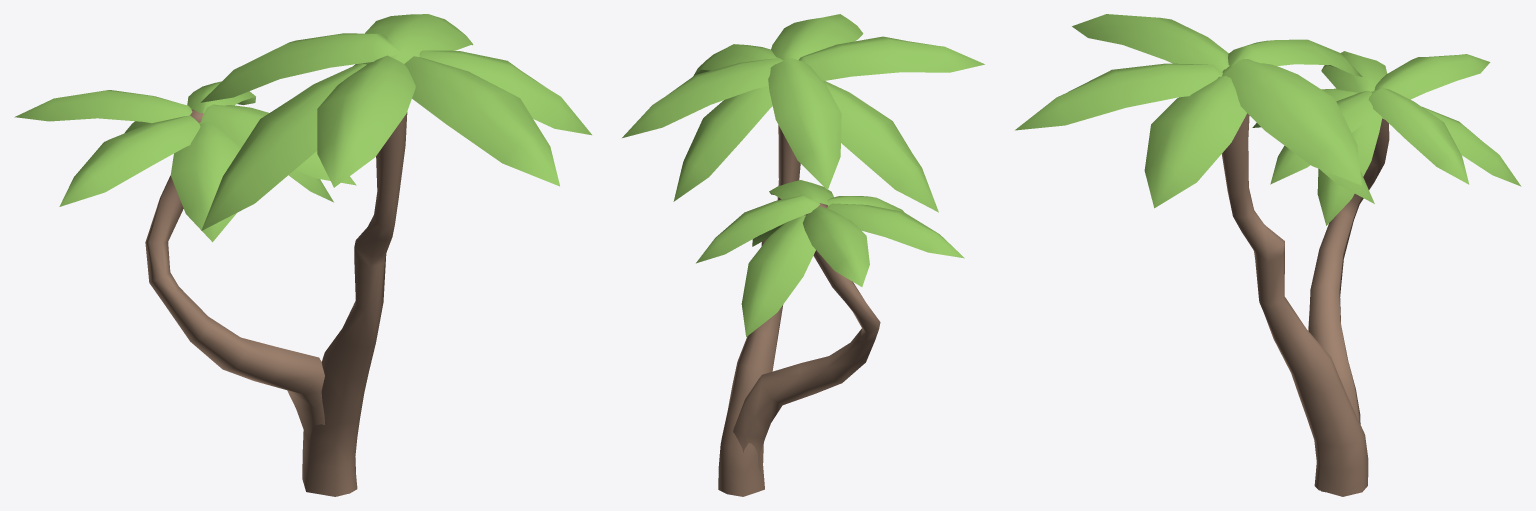
The model's file is TreeAlphas.fbx.
The picture shows the model from 3 angles, left to right: view 1: azimuth 30°, elevation 25°; view 2: azimuth 150°, elevation 25°; view 3: azimuth 270°, elevation 25°; orthographic projection. The views are drawn at different scales.
Visible parts, largest first — view 1: Tree2, Tree1; view 2: Tree2, Tree1; view 3: Tree2, Tree1.
Boxes of the visible parts, x1,y1,x2,y2 form: Tree2: (200, 14, 591, 496); Tree1: (14, 81, 356, 467); Tree2: (622, 14, 984, 496); Tree1: (696, 180, 964, 472); Tree2: (1015, 14, 1374, 496); Tree1: (1252, 51, 1521, 492).
Size of the model in its own units: 15.24 by 16.65 by 17.52.
